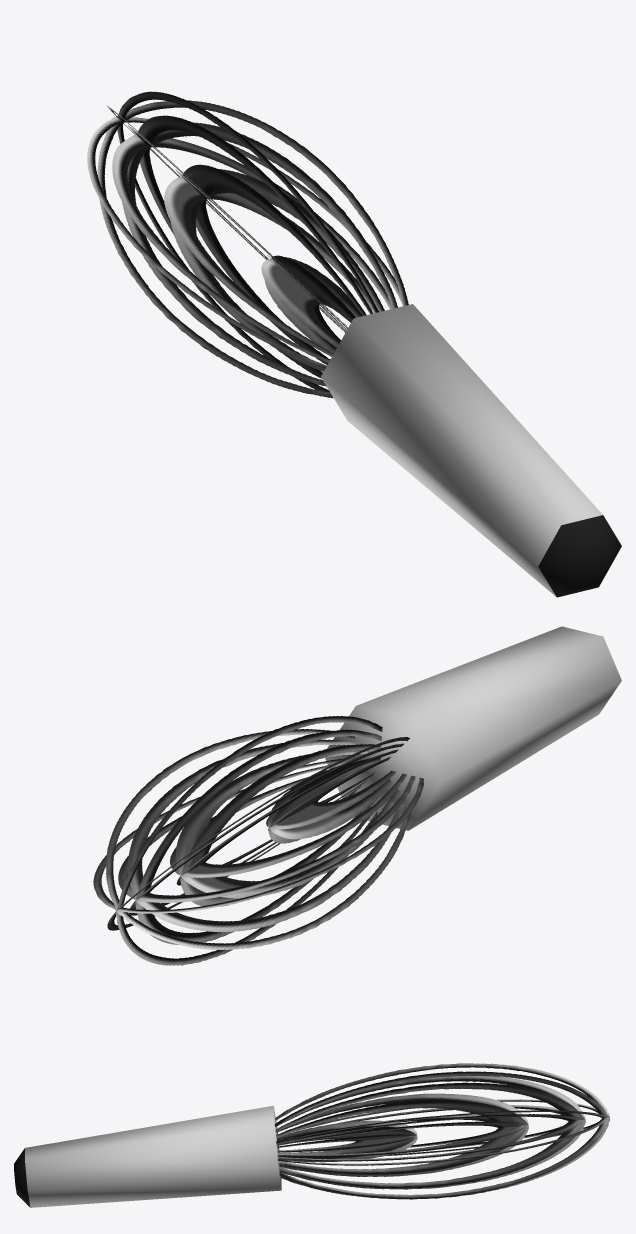
Rendered from Whisk_B.FBX.
3 renders of one model, top to bottom at view 1: azimuth 30°, elevation 25°; view 2: azimuth 150°, elevation 25°; view 3: azimuth 270°, elevation 25°, orthographic. The views are drawn at different scales.
Parts seen in each view (by area): view 1: Whisk; view 2: Whisk; view 3: Whisk.
Part boxes in pixels (bbox=[...]): Whisk: bbox=[87, 91, 621, 597]; Whisk: bbox=[93, 626, 621, 965]; Whisk: bbox=[14, 1063, 609, 1207].
Size of the model in its own units: 24.1 by 30.25 by 102.
